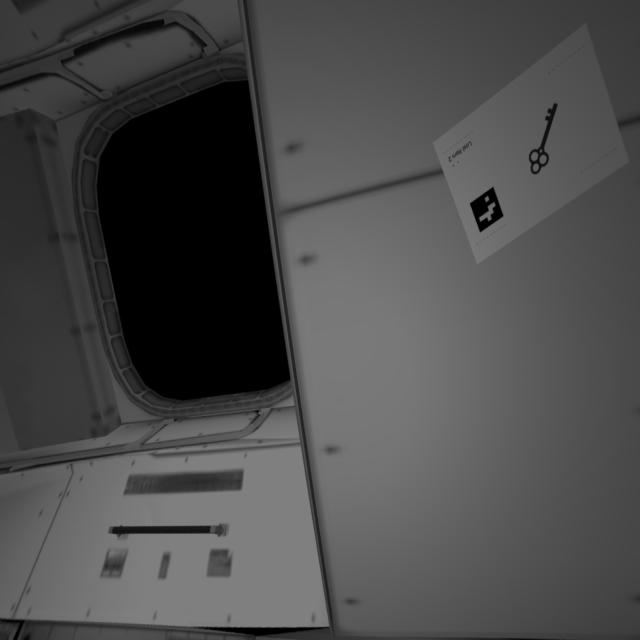key: (522, 96, 569, 180)
